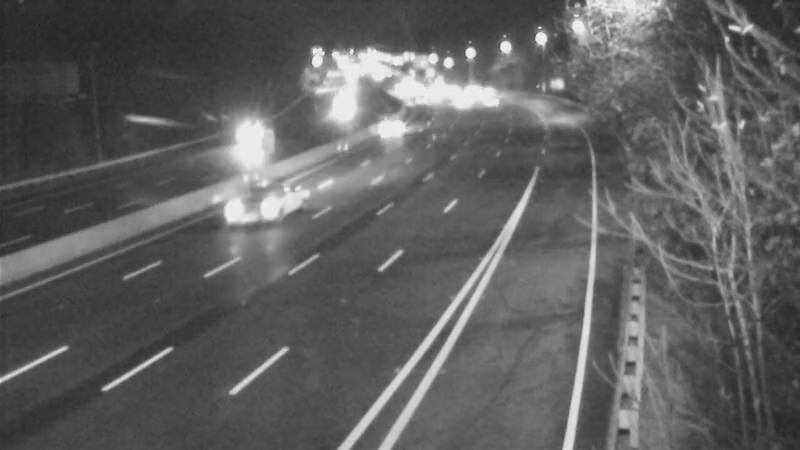vehicle: (210, 168, 290, 248), (393, 75, 443, 125), (461, 80, 511, 130), (368, 103, 418, 153), (219, 108, 269, 158)
